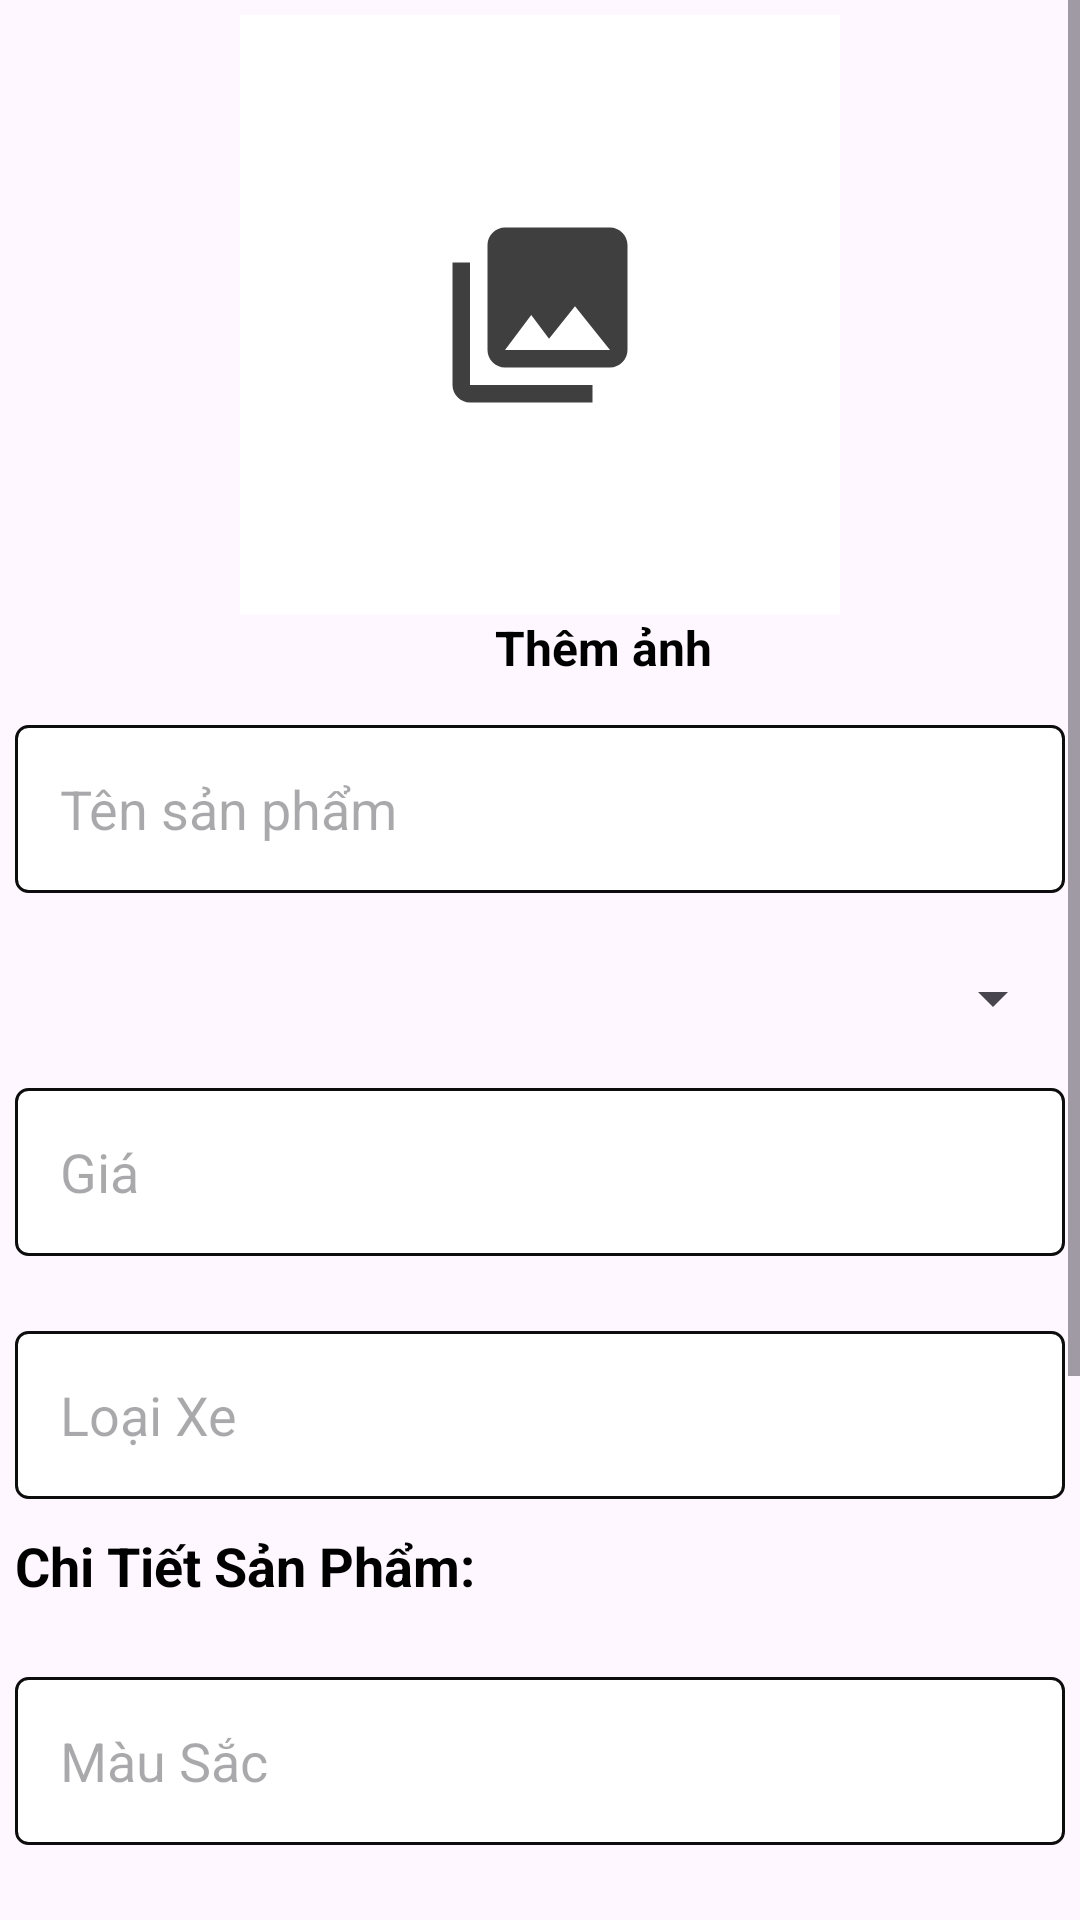

Named icons in this screenshot (1080px×1920px) and their bounding boxes, (x1, y1, x2, y2):
photo library: (452, 227, 628, 403)
